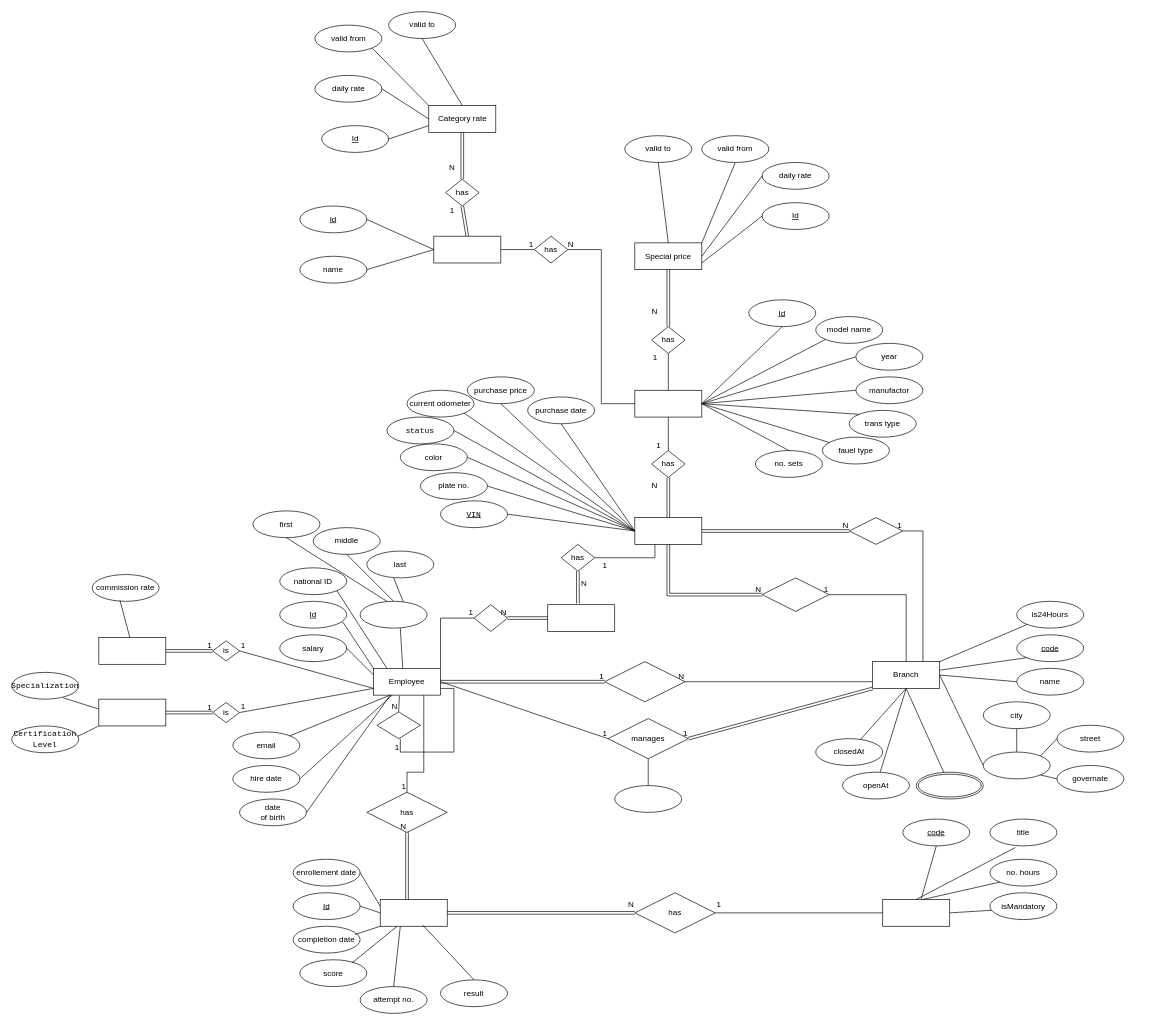
Some shapes in this 1149 by 1025 pixel diagram are drawn without their labels. The shapes that lost their labels are listed below. From the top down, each one's centre as x and y in pixels, then its label:
At (467,249): "Category".
At (668,403): "Car model".
At (668,530): "Vehicle".
At (876,530): "currently at".
At (393,614): "full name".
At (795,594): "register under".
At (490,617): "change".
At (581,617): "Vehicle status history".
At (132,650): "Rental Agent".
At (644,681): "work on".
At (132,712): "Mechanican".
At (398,725): "report".
At (949,785): "phone".
At (1016,765): "address".
At (648,798): "manage date".
At (413,912): "Enrollement".
At (916,912): "Course".
